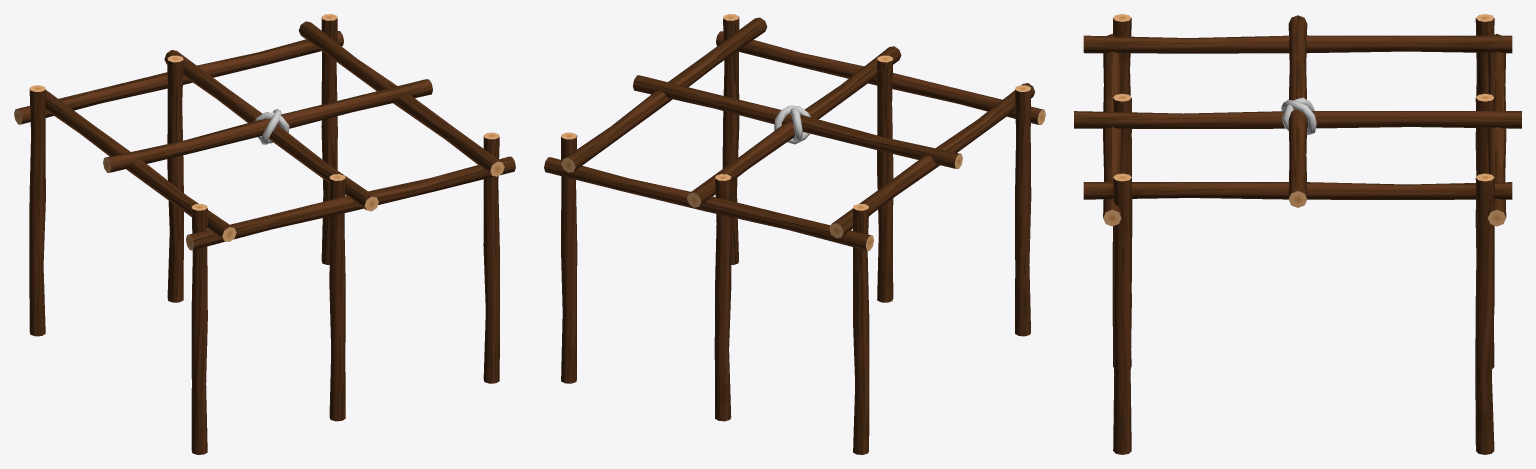
File: log_construction_001.fbx
The picture shows the model from 3 angles, left to right: view 1: azimuth 30°, elevation 25°; view 2: azimuth 150°, elevation 25°; view 3: azimuth 270°, elevation 25°; orthographic projection. The views are drawn at different scales.
Visible parts, largest first — view 1: log_construction_001; view 2: log_construction_001; view 3: log_construction_001.
Boxes of the visible parts, box(x1,y1,x2,y2) form: log_construction_001: box(14, 14, 515, 454); log_construction_001: box(544, 14, 1045, 454); log_construction_001: box(1074, 14, 1521, 454).
Size of the model in its own units: 739 by 796 by 540.
